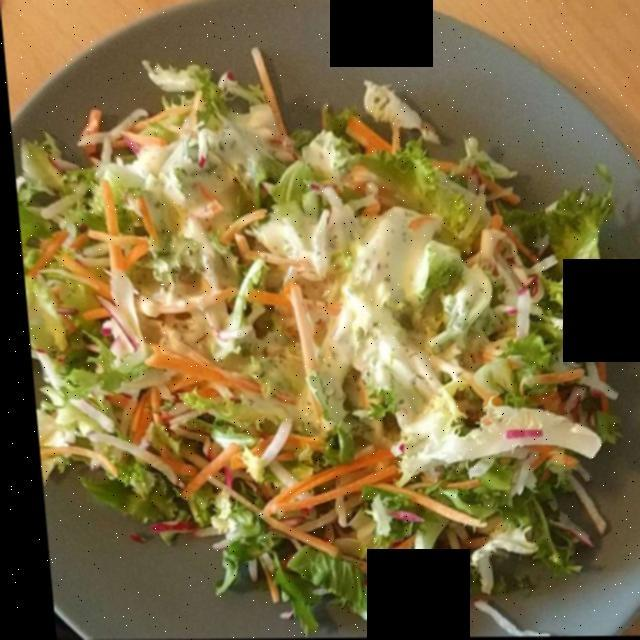carrot: (37, 192, 403, 565)
salad: (31, 84, 622, 618), (117, 173, 461, 446)
